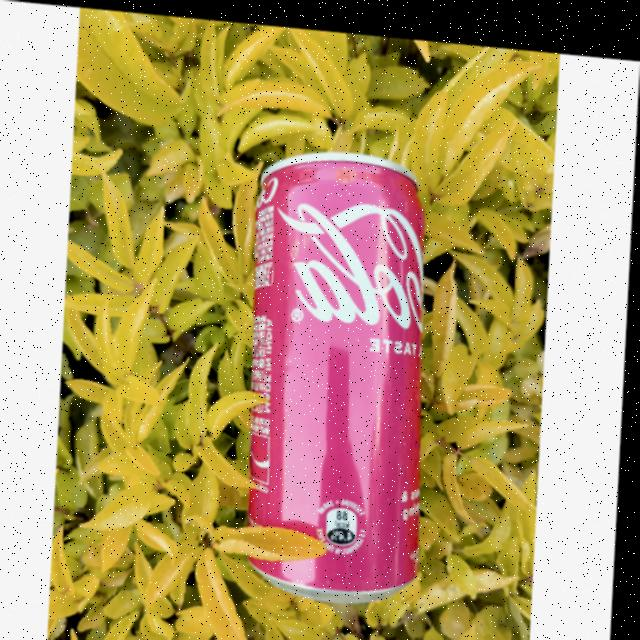Coca Cola: (230, 139, 446, 602)
